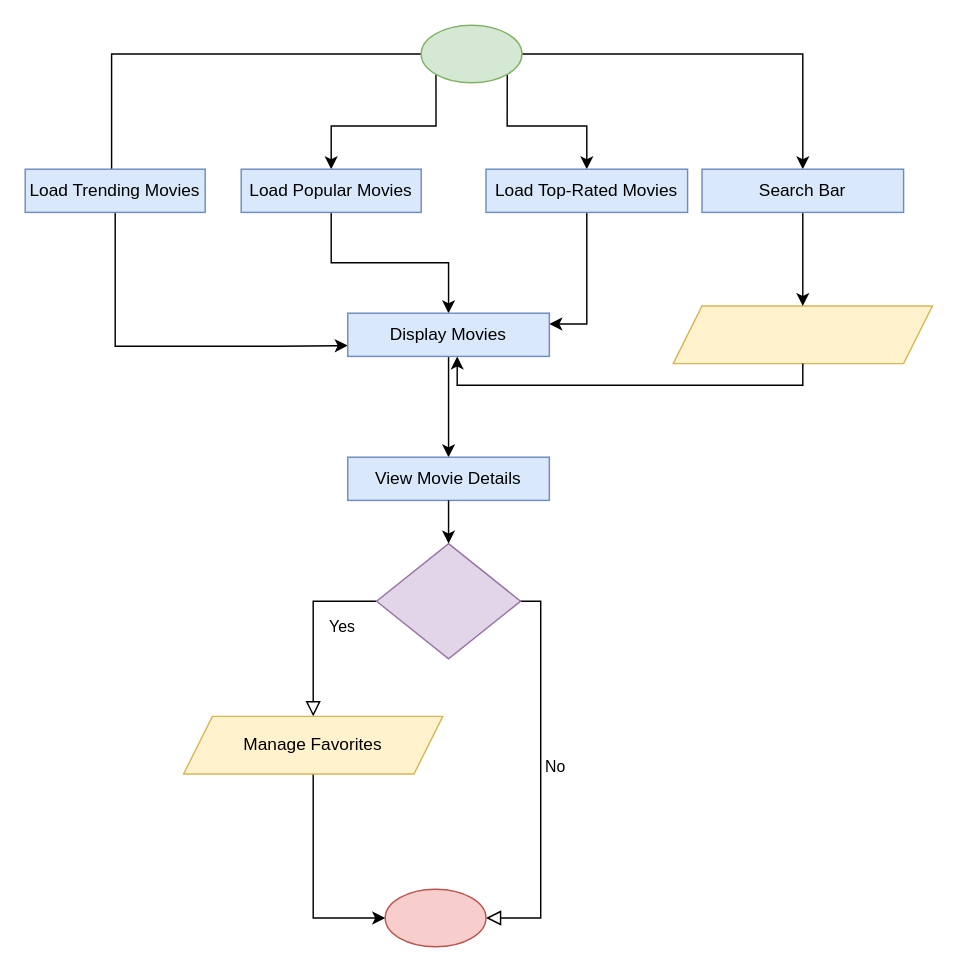
The diagram is 958 pixels wide and 972 high, and some of its shapes have lost their labels. Each missing label, with the centre of its shape:
Add to Favorites?: pixel 448 600
End: pixel 435 917
Search For Movies: pixel 802 334
Start: pixel 471 53
